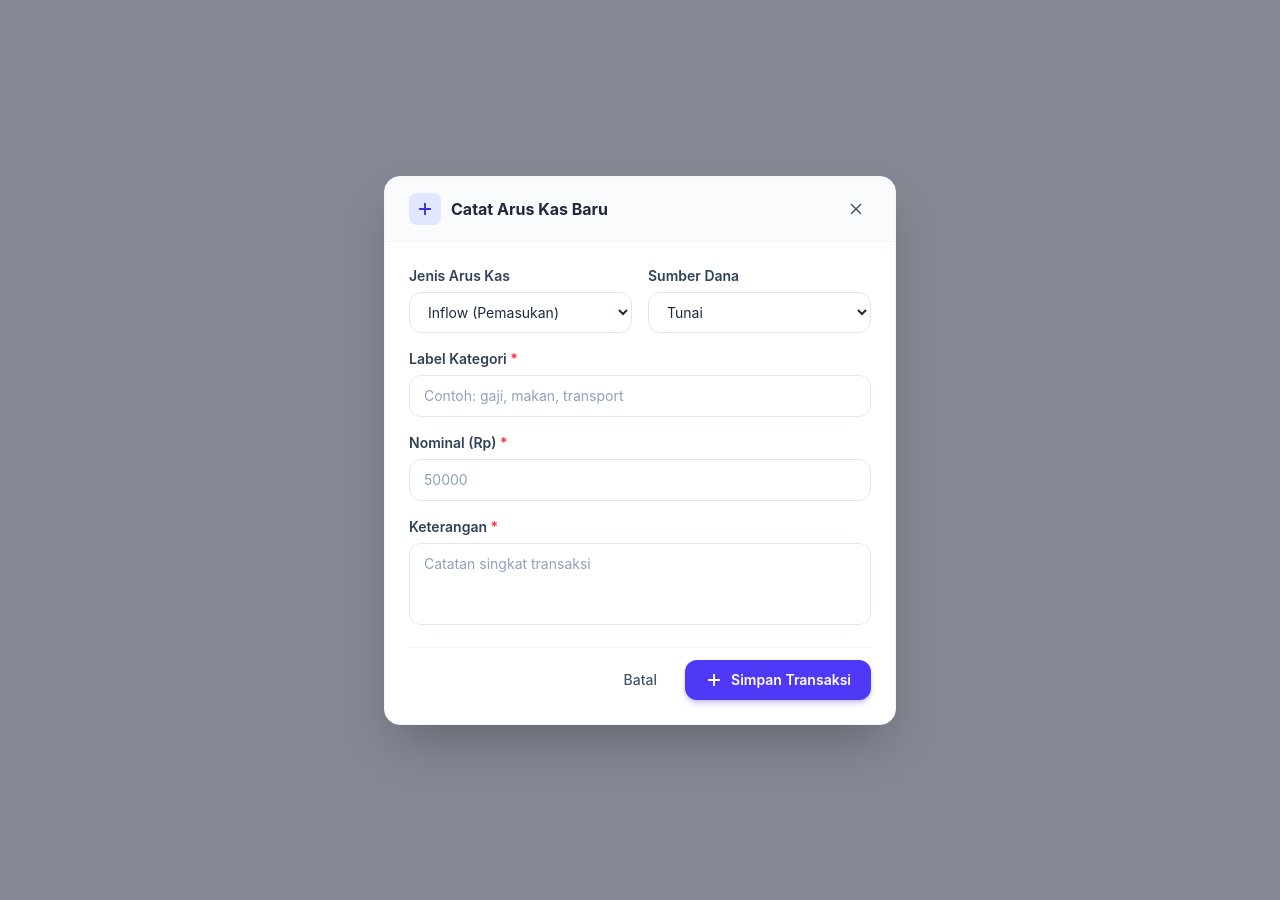
AddModal › should submit trimmed values with chosen type and source and show loading
Select "Outflow (Pengeluaran)" in the dropdown labelled "Jenis Arus Kas" at (520, 312), box [409,292,632,332]
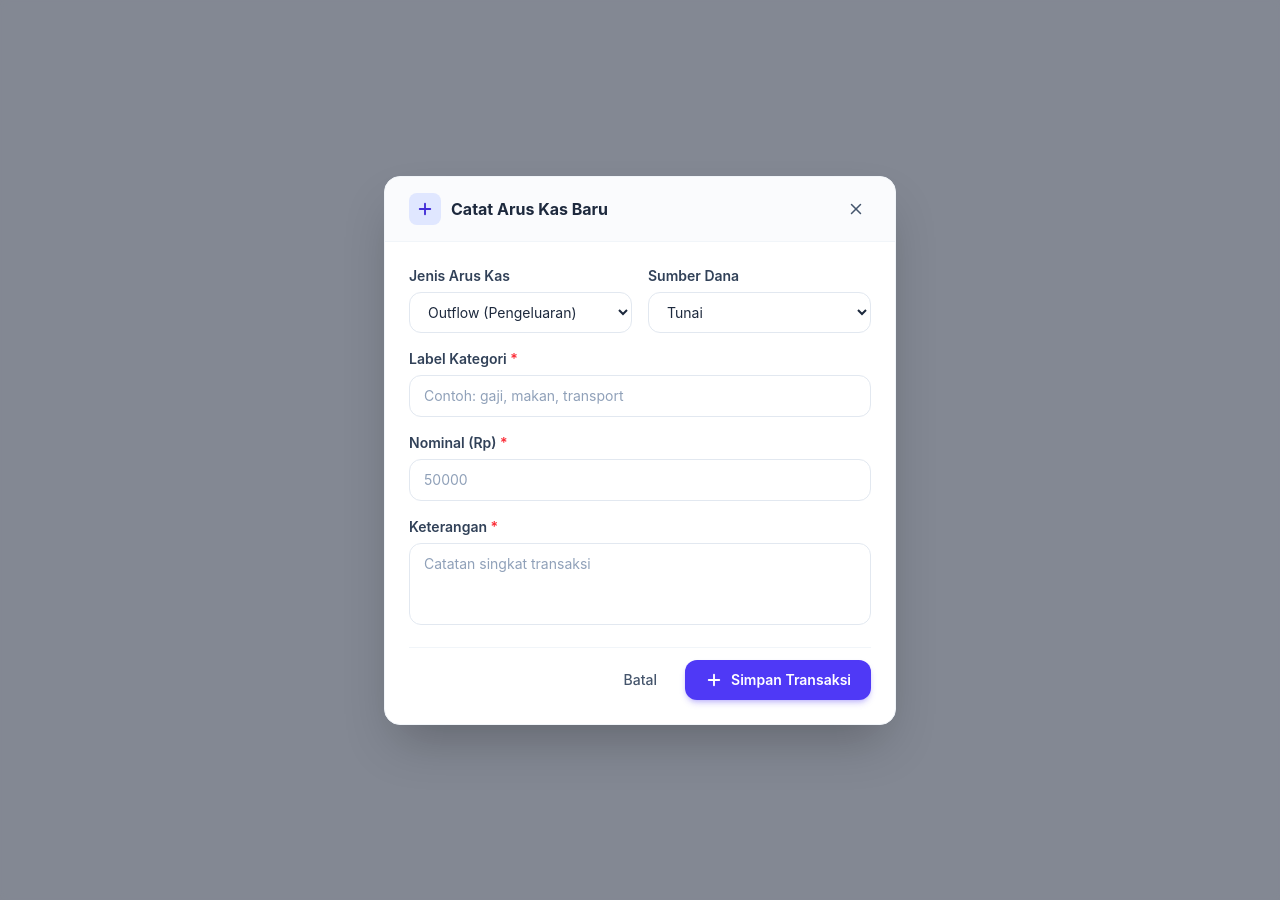
Select "Tabungan" in the dropdown labelled "Sumber Dana" at (760, 312), box [648,292,871,332]
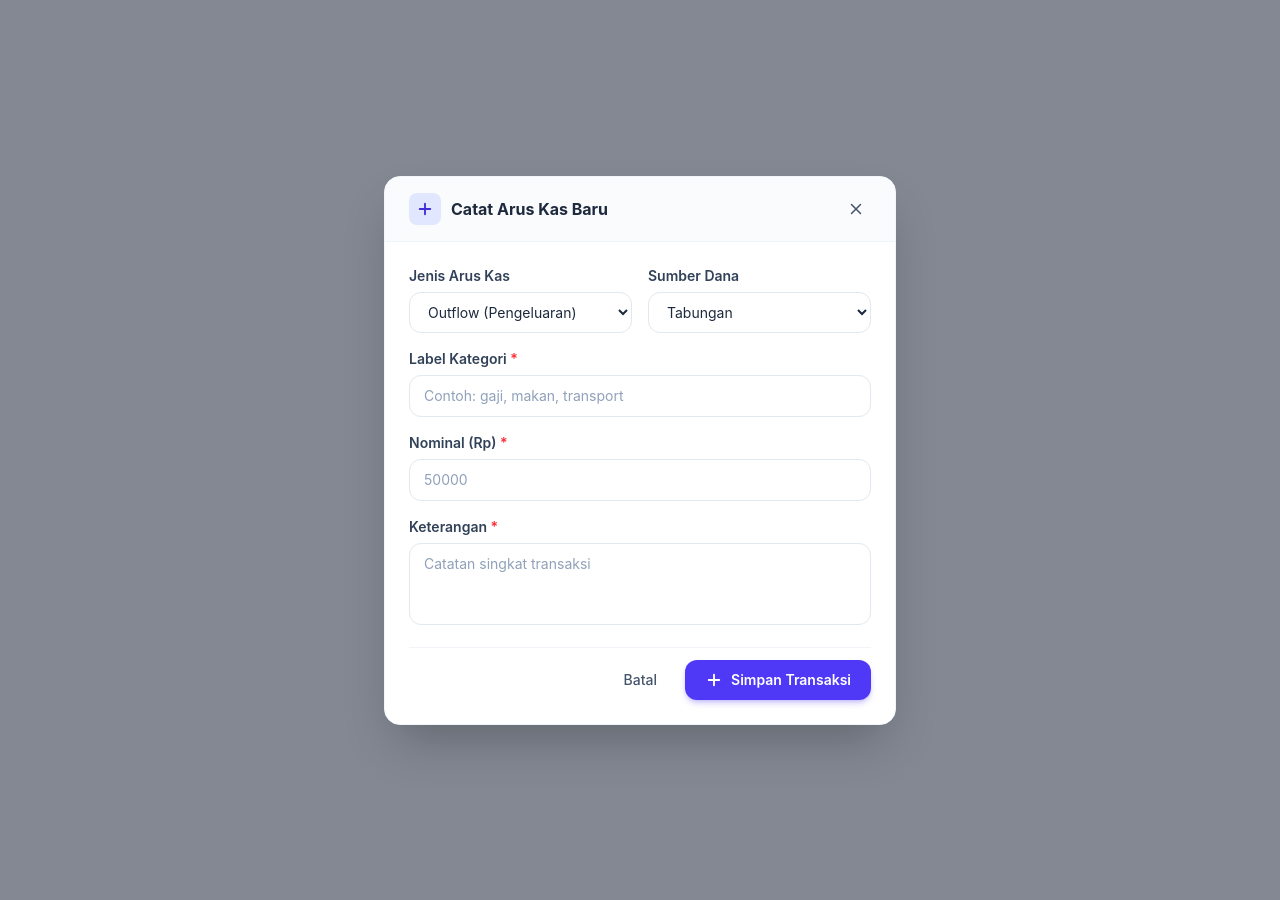
Type "  makan  " into the field labelled "Label Kategori *" at (640, 396), box [409,374,871,416]
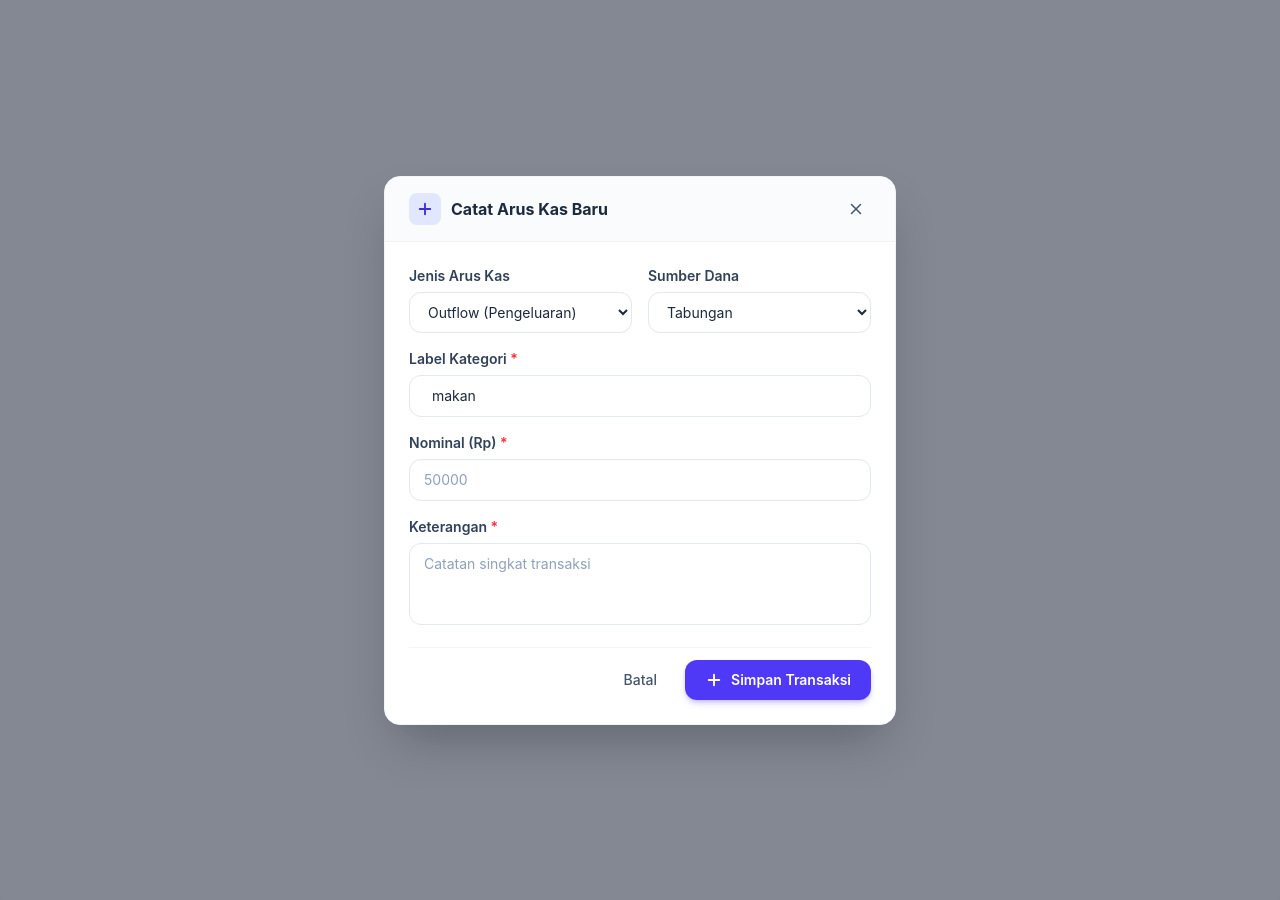
Type "25000" into the number field labelled "Nominal (Rp) *" at (640, 480), box [409,458,871,500]
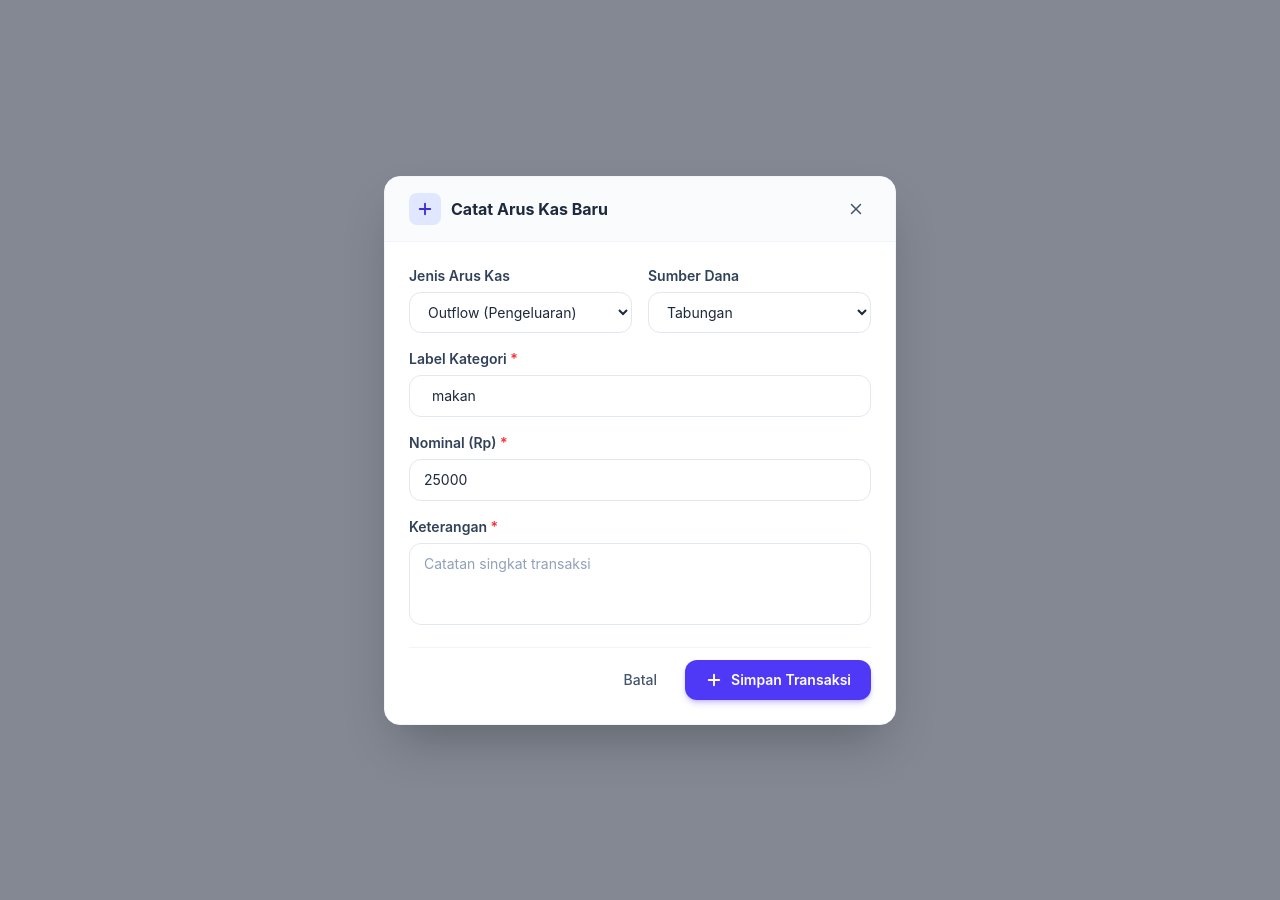
Type "  Makan siang  " into the text box labelled "Keterangan *" at (640, 584), box [409,542,871,624]
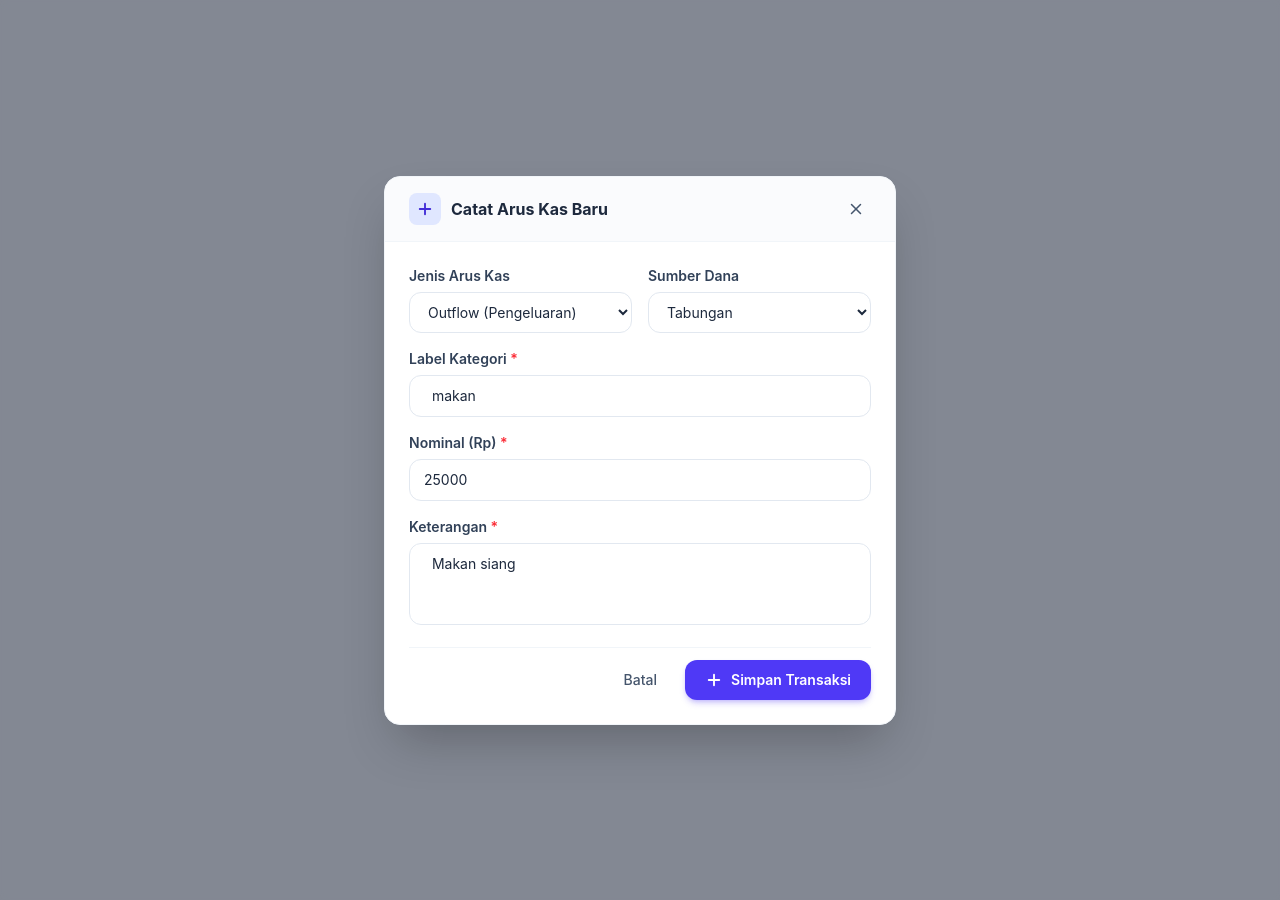
Submit the form, box [385,242,895,724]
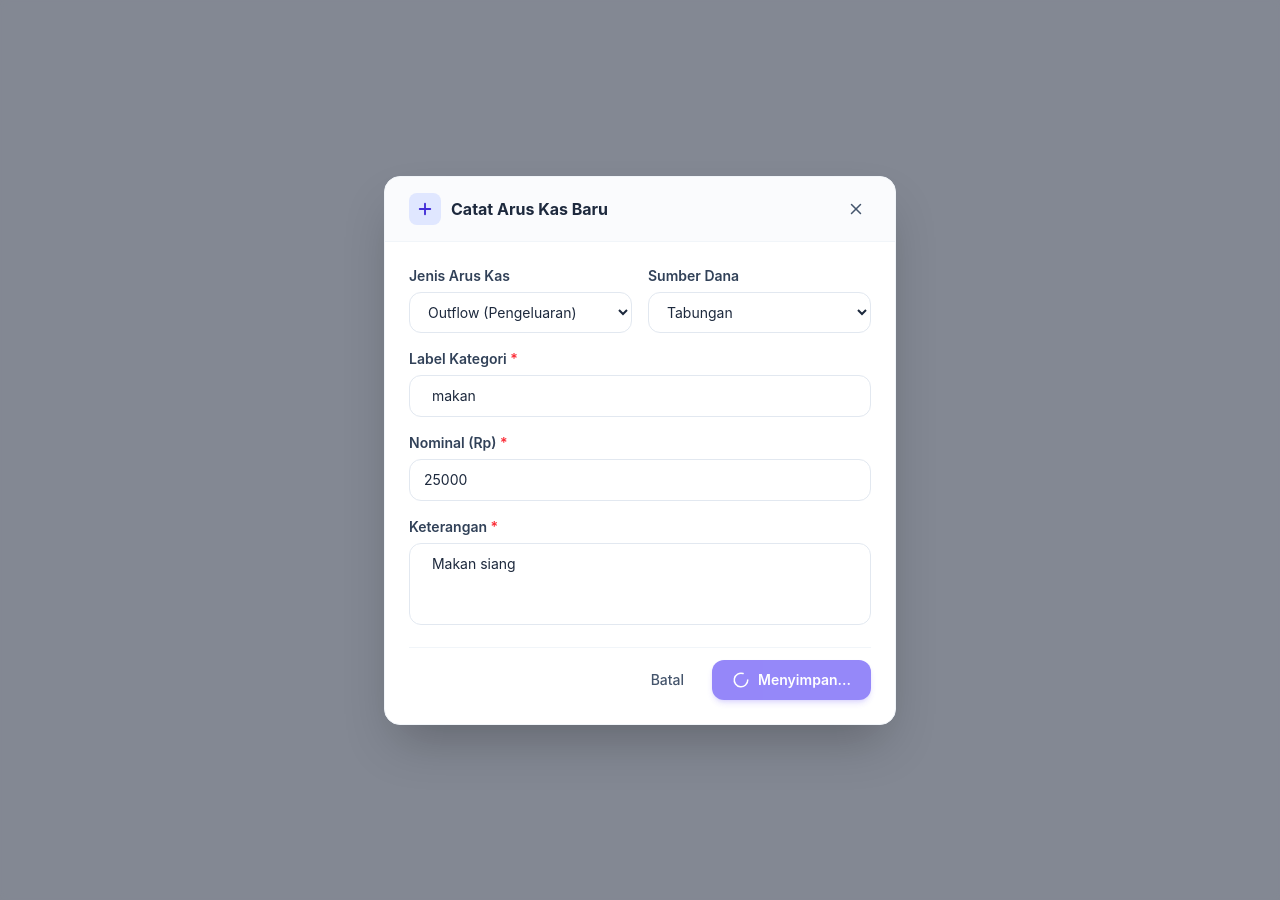
Check: the text "Menyimpan..." is shown, box [758,670,851,690]
